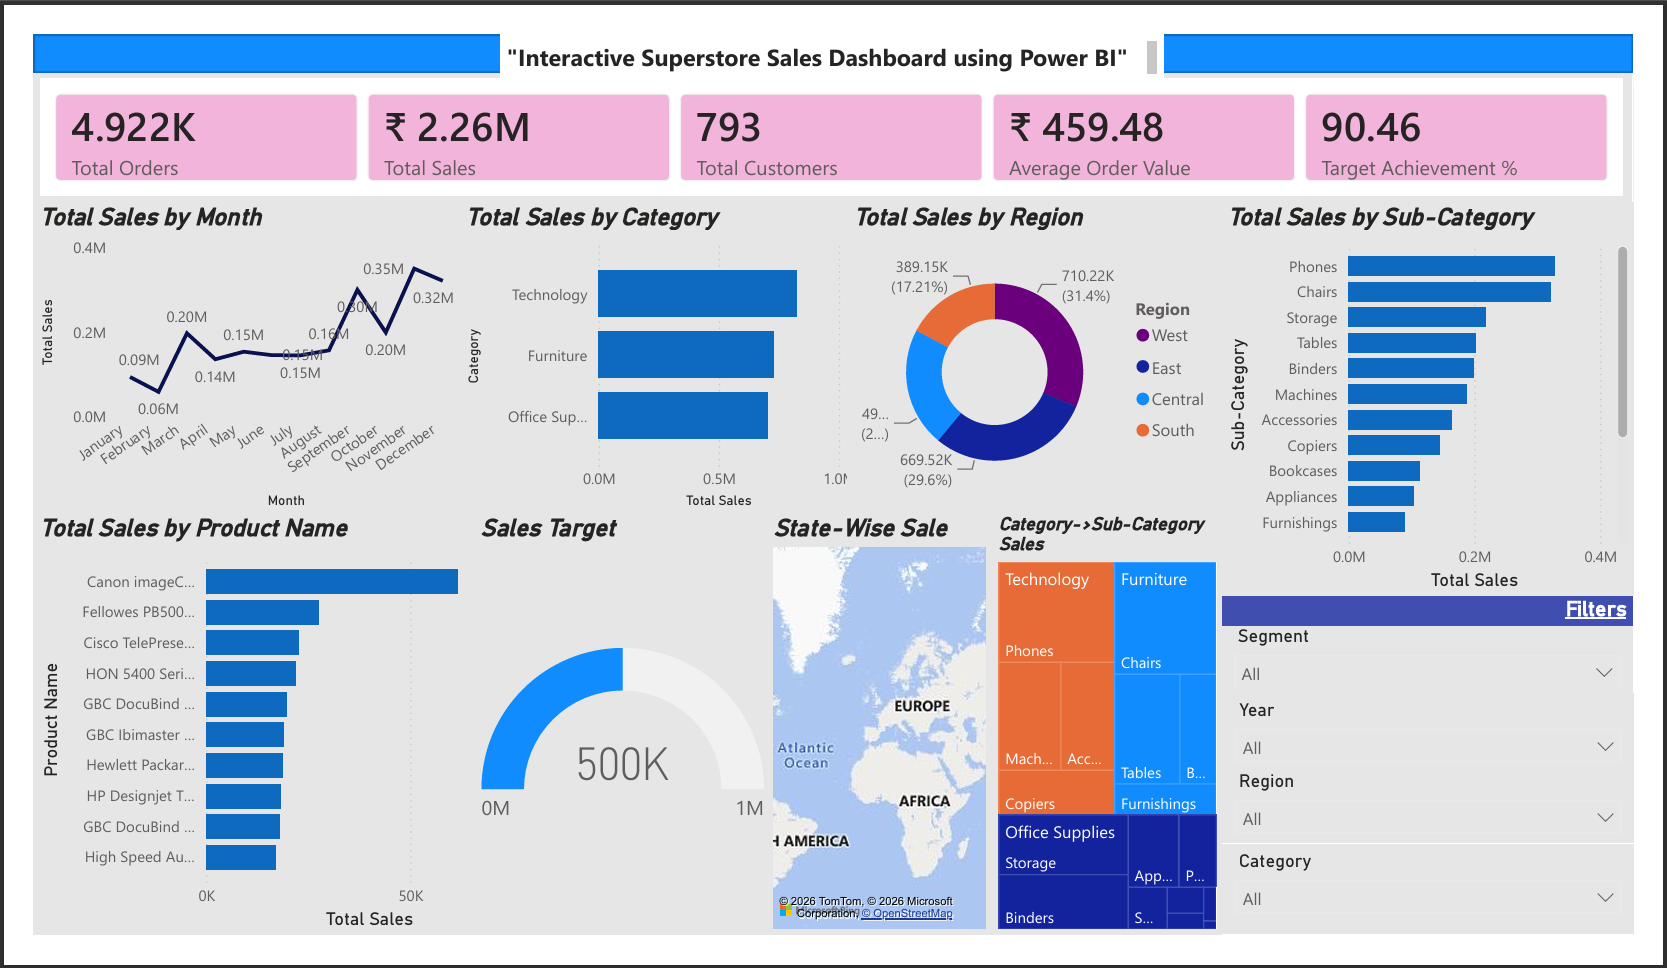

Layout of this report page (visuals, bound fields, positions):
{"tool":"powerbi","page":{"name":"Page 1","canvas":[1280,720],"ordinal":0},"visuals":[{"type":"lineChart","fields":{"Y":["train.Total Sales"],"Category":["train.Order Date.Variation.Date Hierarchy.Month"]},"box":[0,134.3,341.4,248.6],"z":0},{"type":"cardVisual","fields":{"Data":["train.Total Orders","train.Total Sales","train.Total Customers","train.Average Order Value","train.Target Achievement %"]},"box":[0,30,1278.6,104.3],"z":1000},{"type":"barChart","fields":{"Category":["train.Category"],"Y":["train.Total Sales"]},"box":[341.4,134.3,321.4,248.6],"z":2000},{"type":"barChart","fields":{"Category":["train.Sub-Category"],"Y":["train.Total Sales"]},"box":[950,134.3,330,314.3],"z":3000},{"type":"donutChart","fields":{"Category":["train.Region"],"Y":["train.Total Sales"]},"box":[651.4,134.3,300,248.6],"z":4000},{"type":"barChart","fields":{"Category":["train.Product Name"],"Y":["train.Total Sales"]},"box":[0,382.9,414.3,337.1],"z":5000},{"type":"filledMap","title":"State-Wise Sale","fields":{"Category":["train.State"],"Y":["train.Total Sales"]},"box":[587.1,382.9,180,337.1],"z":6000},{"type":"gauge","fields":{"Y":["train.Sales Target"]},"box":[352.9,382.9,235.7,337.1],"z":7000},{"type":"slicer","title":"Filters","fields":{"Values":["train.Segment"]},"box":[950,448.6,328.6,78.6],"z":8000},{"type":"slicer","fields":{"Values":["train.Order Date.Variation.Date Hierarchy.Year"]},"box":[951.4,527.1,328.6,57.1],"z":9000},{"type":"slicer","fields":{"Values":["train.Region"]},"box":[951.4,584.3,328.6,62.9],"z":10000},{"type":"slicer","fields":{"Values":["train.Category"]},"box":[951.2,647.5,328.8,72.5],"z":11000},{"type":"treemap","title":" Category->Sub-Category Sales","fields":{"Group":["train.Category"],"Details":["train.Sub-Category"],"Values":["train.Total Sales"]},"box":[767.1,382.9,184.3,337.1],"z":12000},{"type":"shape","box":[0,0,1278.6,30],"z":13000},{"type":"textbox","box":[372.9,0,531.4,42.9],"z":14000}]}

Visuals, with their boxes on the page's 1280x720 design canvas (x1, y1, x2, y2). These are canvas units, not pixel positions in the 1667x968 screenshot, which may show the page scaled, cropped or inside an application window:
lineChart - train.Total Sales x train.Order Date.Variation.Date Hierarchy.Month: pyautogui.locateOnScreen(0, 134, 341, 383)
cardVisual - train.Total Orders x train.Total Sales: pyautogui.locateOnScreen(0, 30, 1279, 134)
barChart - train.Category x train.Total Sales: pyautogui.locateOnScreen(341, 134, 663, 383)
barChart - train.Sub-Category x train.Total Sales: pyautogui.locateOnScreen(950, 134, 1280, 449)
donutChart - train.Region x train.Total Sales: pyautogui.locateOnScreen(651, 134, 951, 383)
barChart - train.Product Name x train.Total Sales: pyautogui.locateOnScreen(0, 383, 414, 720)
"State-Wise Sale" filledMap: pyautogui.locateOnScreen(587, 383, 767, 720)
gauge - train.Sales Target: pyautogui.locateOnScreen(353, 383, 589, 720)
"Filters" slicer: pyautogui.locateOnScreen(950, 449, 1279, 527)
slicer - train.Order Date.Variation.Date Hierarchy.Year: pyautogui.locateOnScreen(951, 527, 1280, 584)
slicer - train.Region: pyautogui.locateOnScreen(951, 584, 1280, 647)
slicer - train.Category: pyautogui.locateOnScreen(951, 648, 1280, 720)
" Category->Sub-Category Sales" treemap: pyautogui.locateOnScreen(767, 383, 951, 720)
shape: pyautogui.locateOnScreen(0, 0, 1279, 30)
textbox: pyautogui.locateOnScreen(373, 0, 904, 43)
